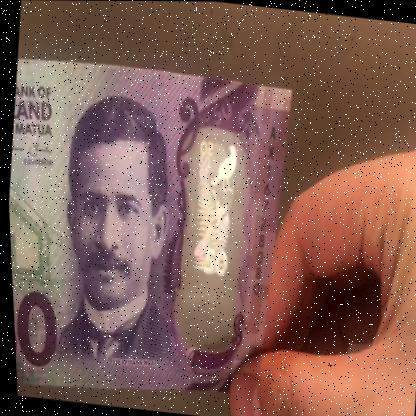50F: (173, 135, 249, 330)
